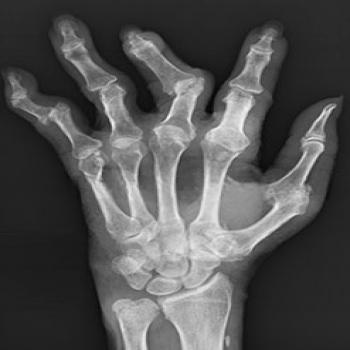Fracture: (161, 70, 208, 105), (37, 99, 76, 132)
